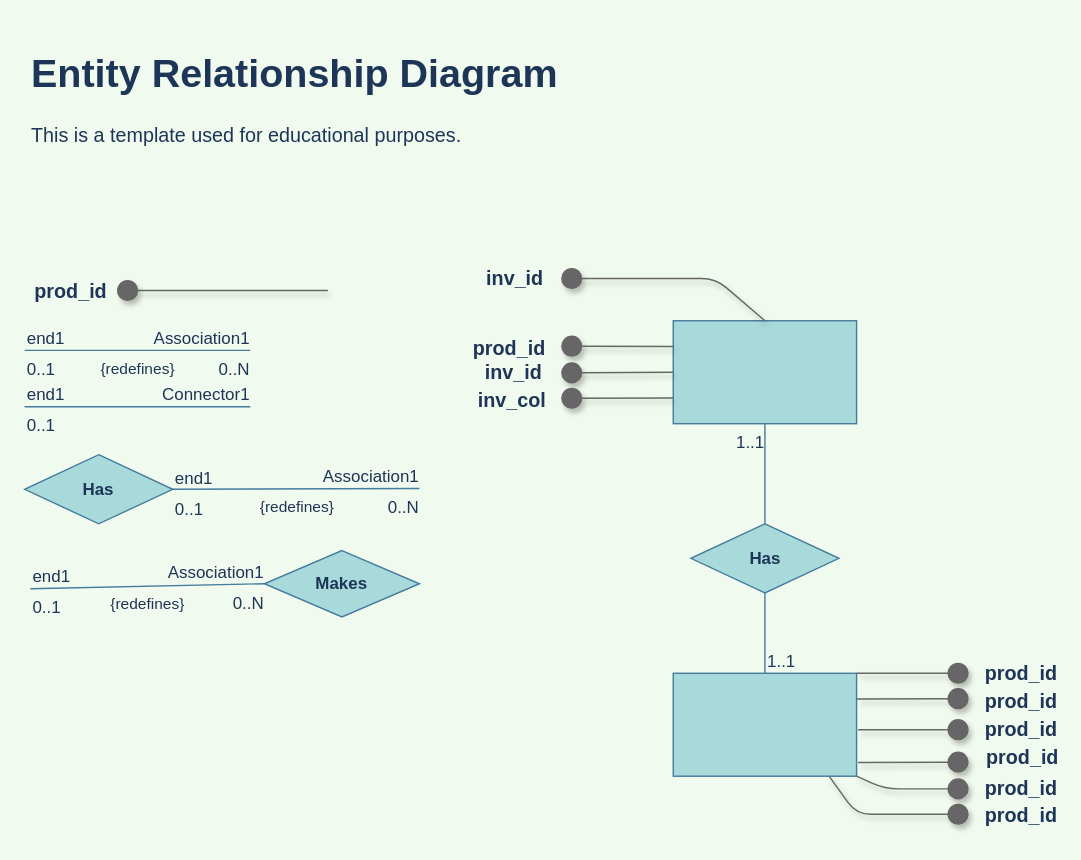
Some shapes in this 1081 by 860 pixel diagram are drawn without their labels. Here are the shapes that lost their labels. From the top down, the centre of each, then its label:
At point (764, 371): "Inventory".
At point (764, 724): "Product".
